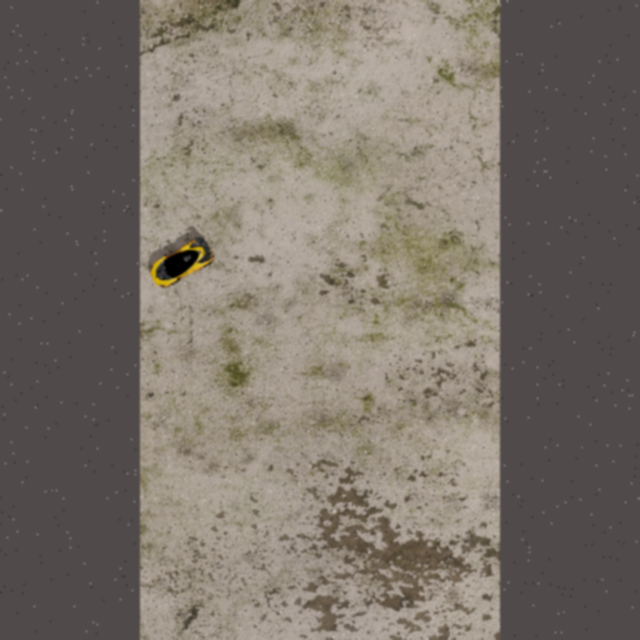car: (141, 233, 217, 293)
